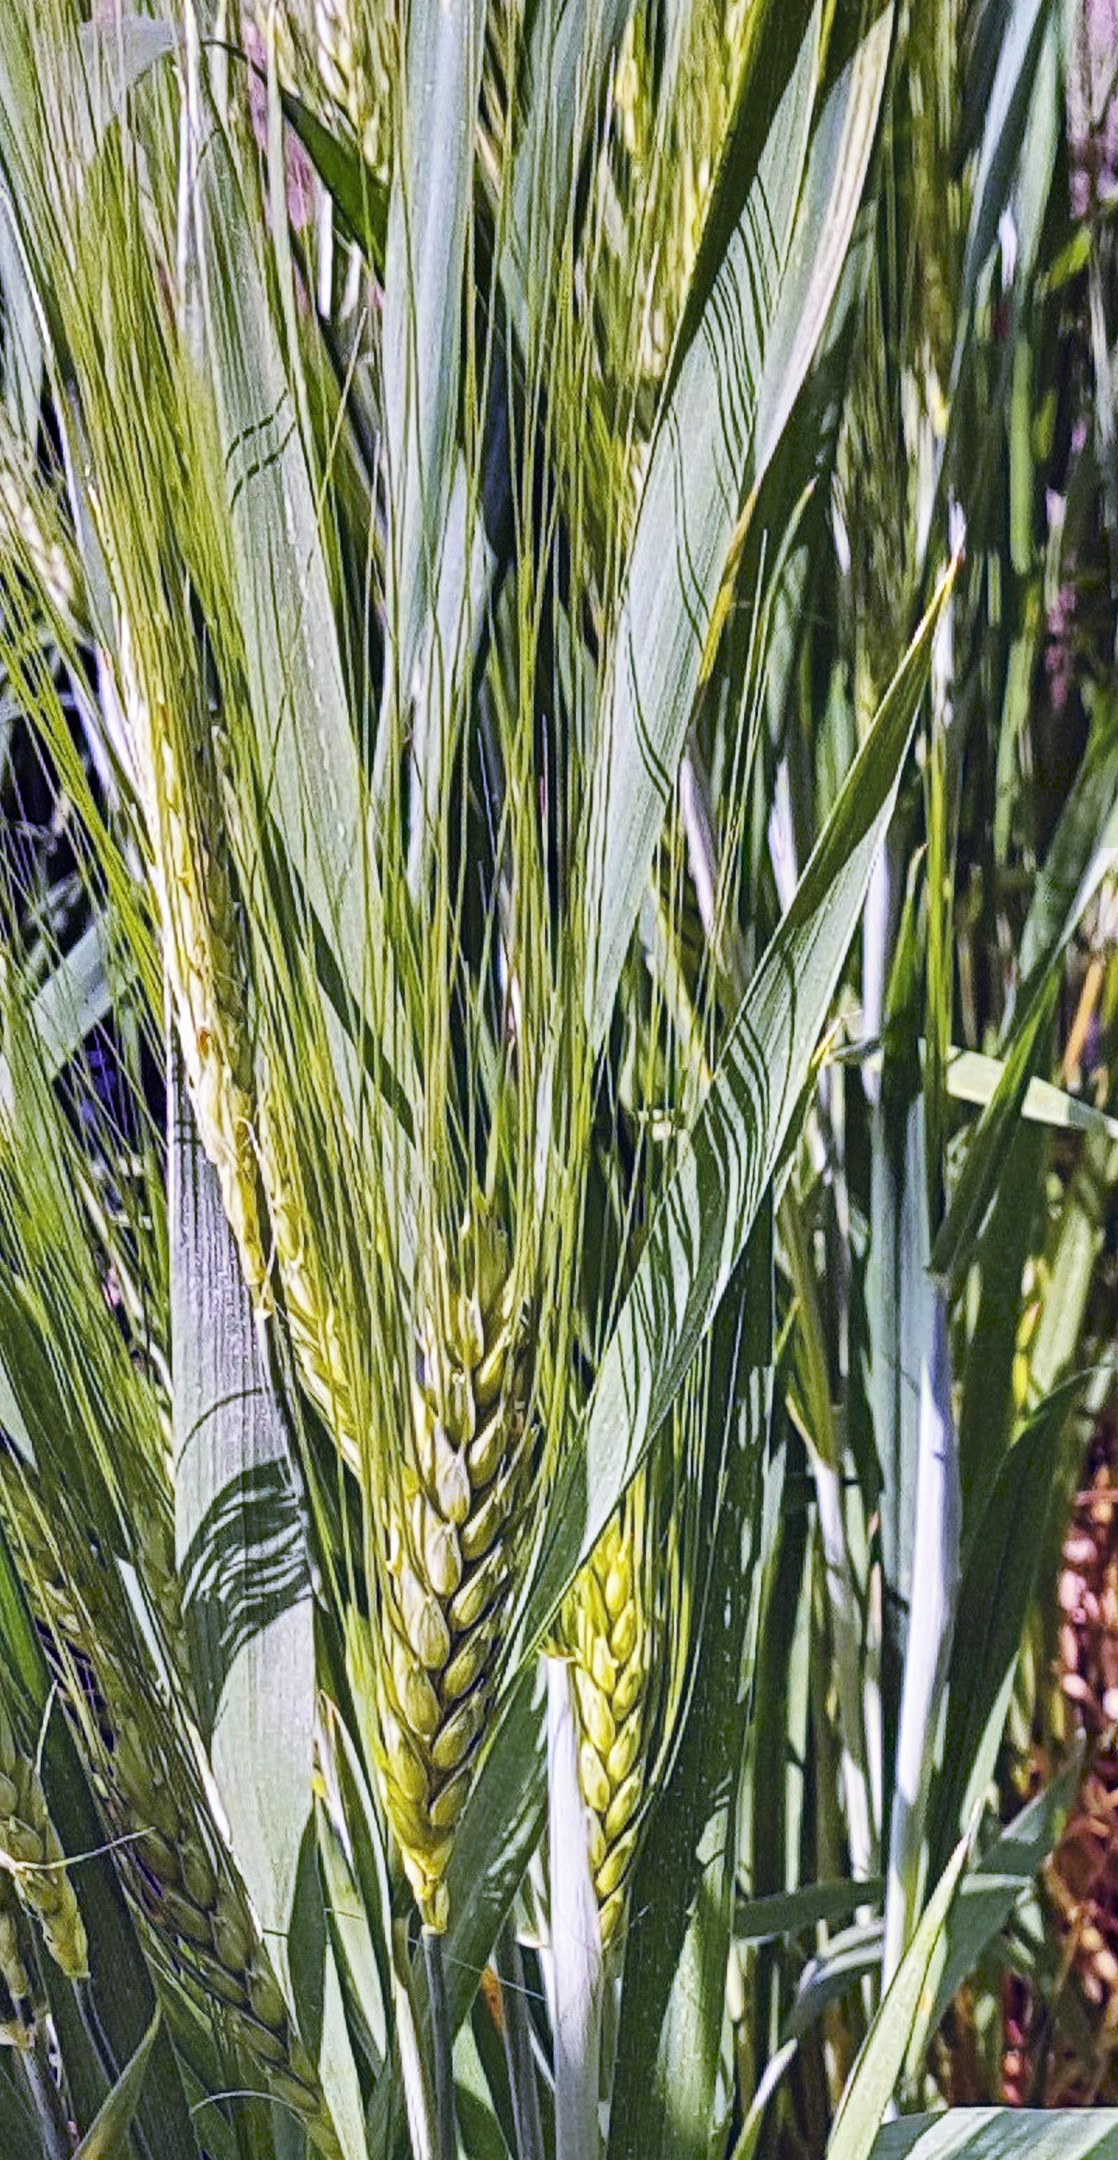Healthy Wheat: (362, 1222, 570, 1898)
